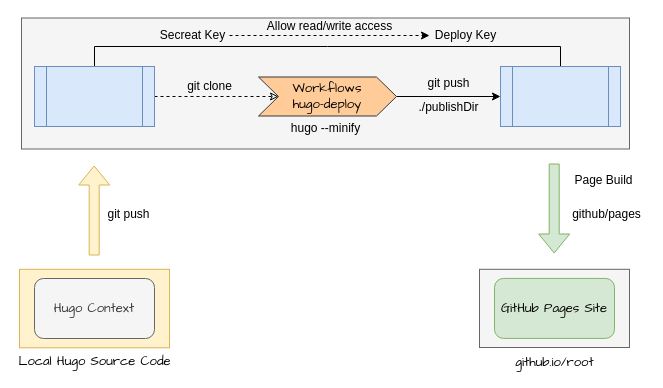
Image size: 663x388. Some labels were removed from this diagram. Each missing label, with the box of its shape:
Private Repository: (34, 66, 154, 126)
Public Repository: (500, 66, 620, 126)
